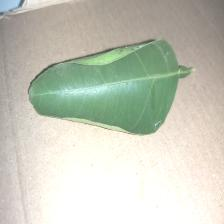healthy: (28, 36, 192, 136)
